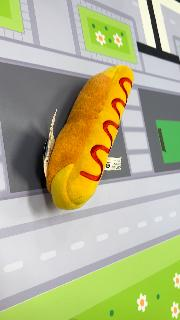hotdog: (45, 65, 135, 212)
